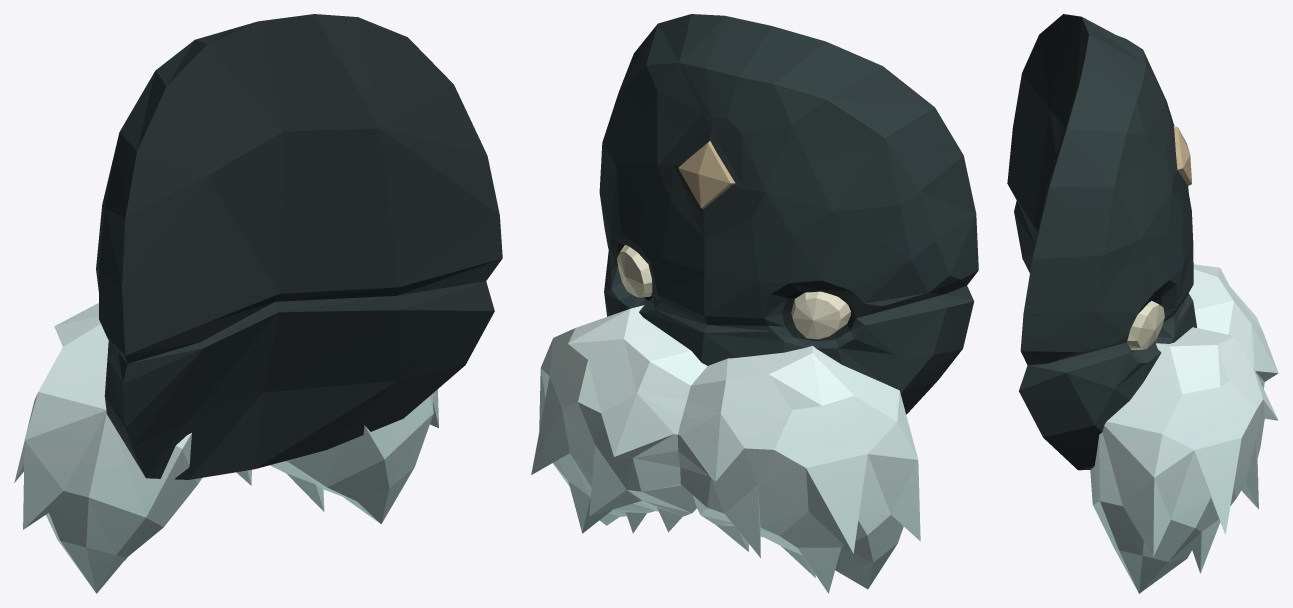
Rendered from CharSkyKid_Mask_AP17PuffyBeard.glb.
The picture shows the model from 3 angles, left to right: view 1: azimuth 30°, elevation 25°; view 2: azimuth 150°, elevation 25°; view 3: azimuth 270°, elevation 25°; orthographic projection. The views are drawn at different scales.
Parts seen in each view (by area): view 1: CharSkyKid_Mask_AP17PuffyBeard; view 2: CharSkyKid_Mask_AP17PuffyBeard; view 3: CharSkyKid_Mask_AP17PuffyBeard.
Boxes of the visible parts, x1=… form: CharSkyKid_Mask_AP17PuffyBeard: x1=14, y1=14, x2=502, y2=593; CharSkyKid_Mask_AP17PuffyBeard: x1=531, y1=14, x2=978, y2=593; CharSkyKid_Mask_AP17PuffyBeard: x1=1007, y1=14, x2=1278, y2=593.
Bounding box in the file's own units: 2.33 × 3 × 1.49.
1 material, 1 textured.
